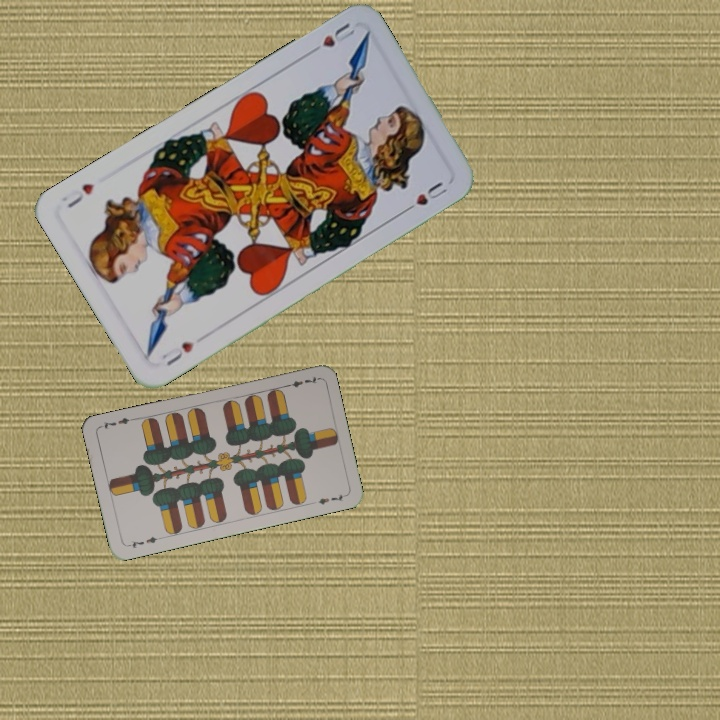E7: (124, 532, 164, 551), (280, 372, 321, 390)
HU: (304, 19, 358, 57), (157, 337, 197, 369)
